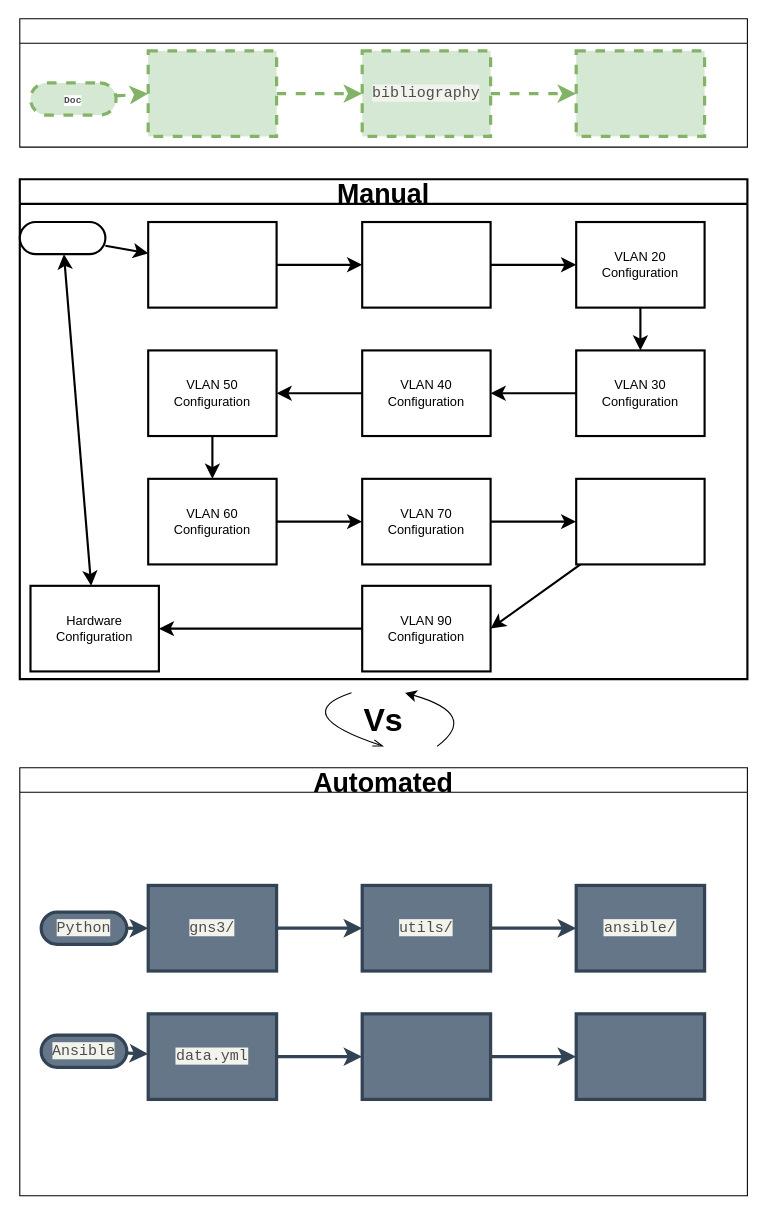
This 766x1214 diagram has some shape labels left out. The shapes that lost their labels are listed below. From the top down, each one's box as (x1, y1, x2, y2) in pixels, then its label:
(146, 49, 278, 137): diagrams
(19, 18, 747, 147): Documentation
(574, 49, 706, 137): report
(18, 220, 106, 255): Cisco
(147, 220, 277, 308): VLAN 0 Configuration
(361, 220, 491, 308): VLAN 10 Configuration
(575, 477, 705, 565): VLAN 80 Configuration
(360, 1012, 492, 1100): devices .yml
(574, 1012, 706, 1100): vlan.yml
